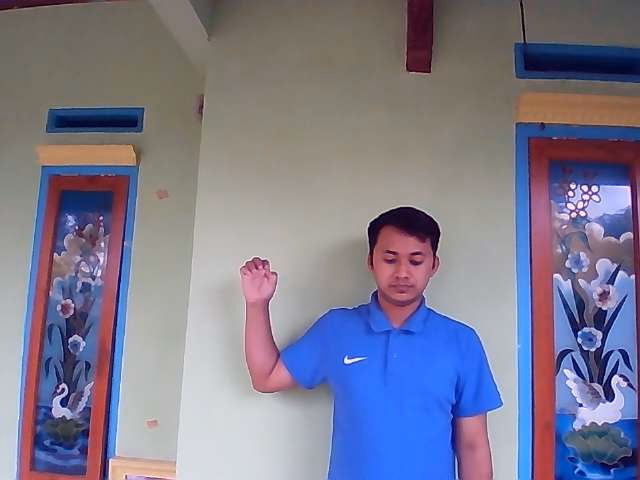E: (239, 256, 280, 305)
